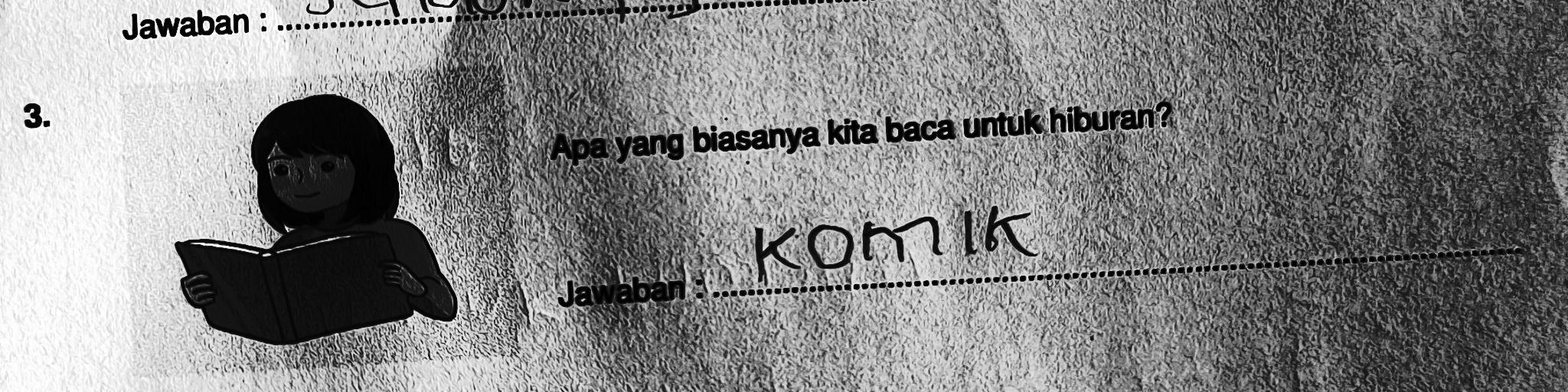jawaban: (745, 191, 1049, 291)
